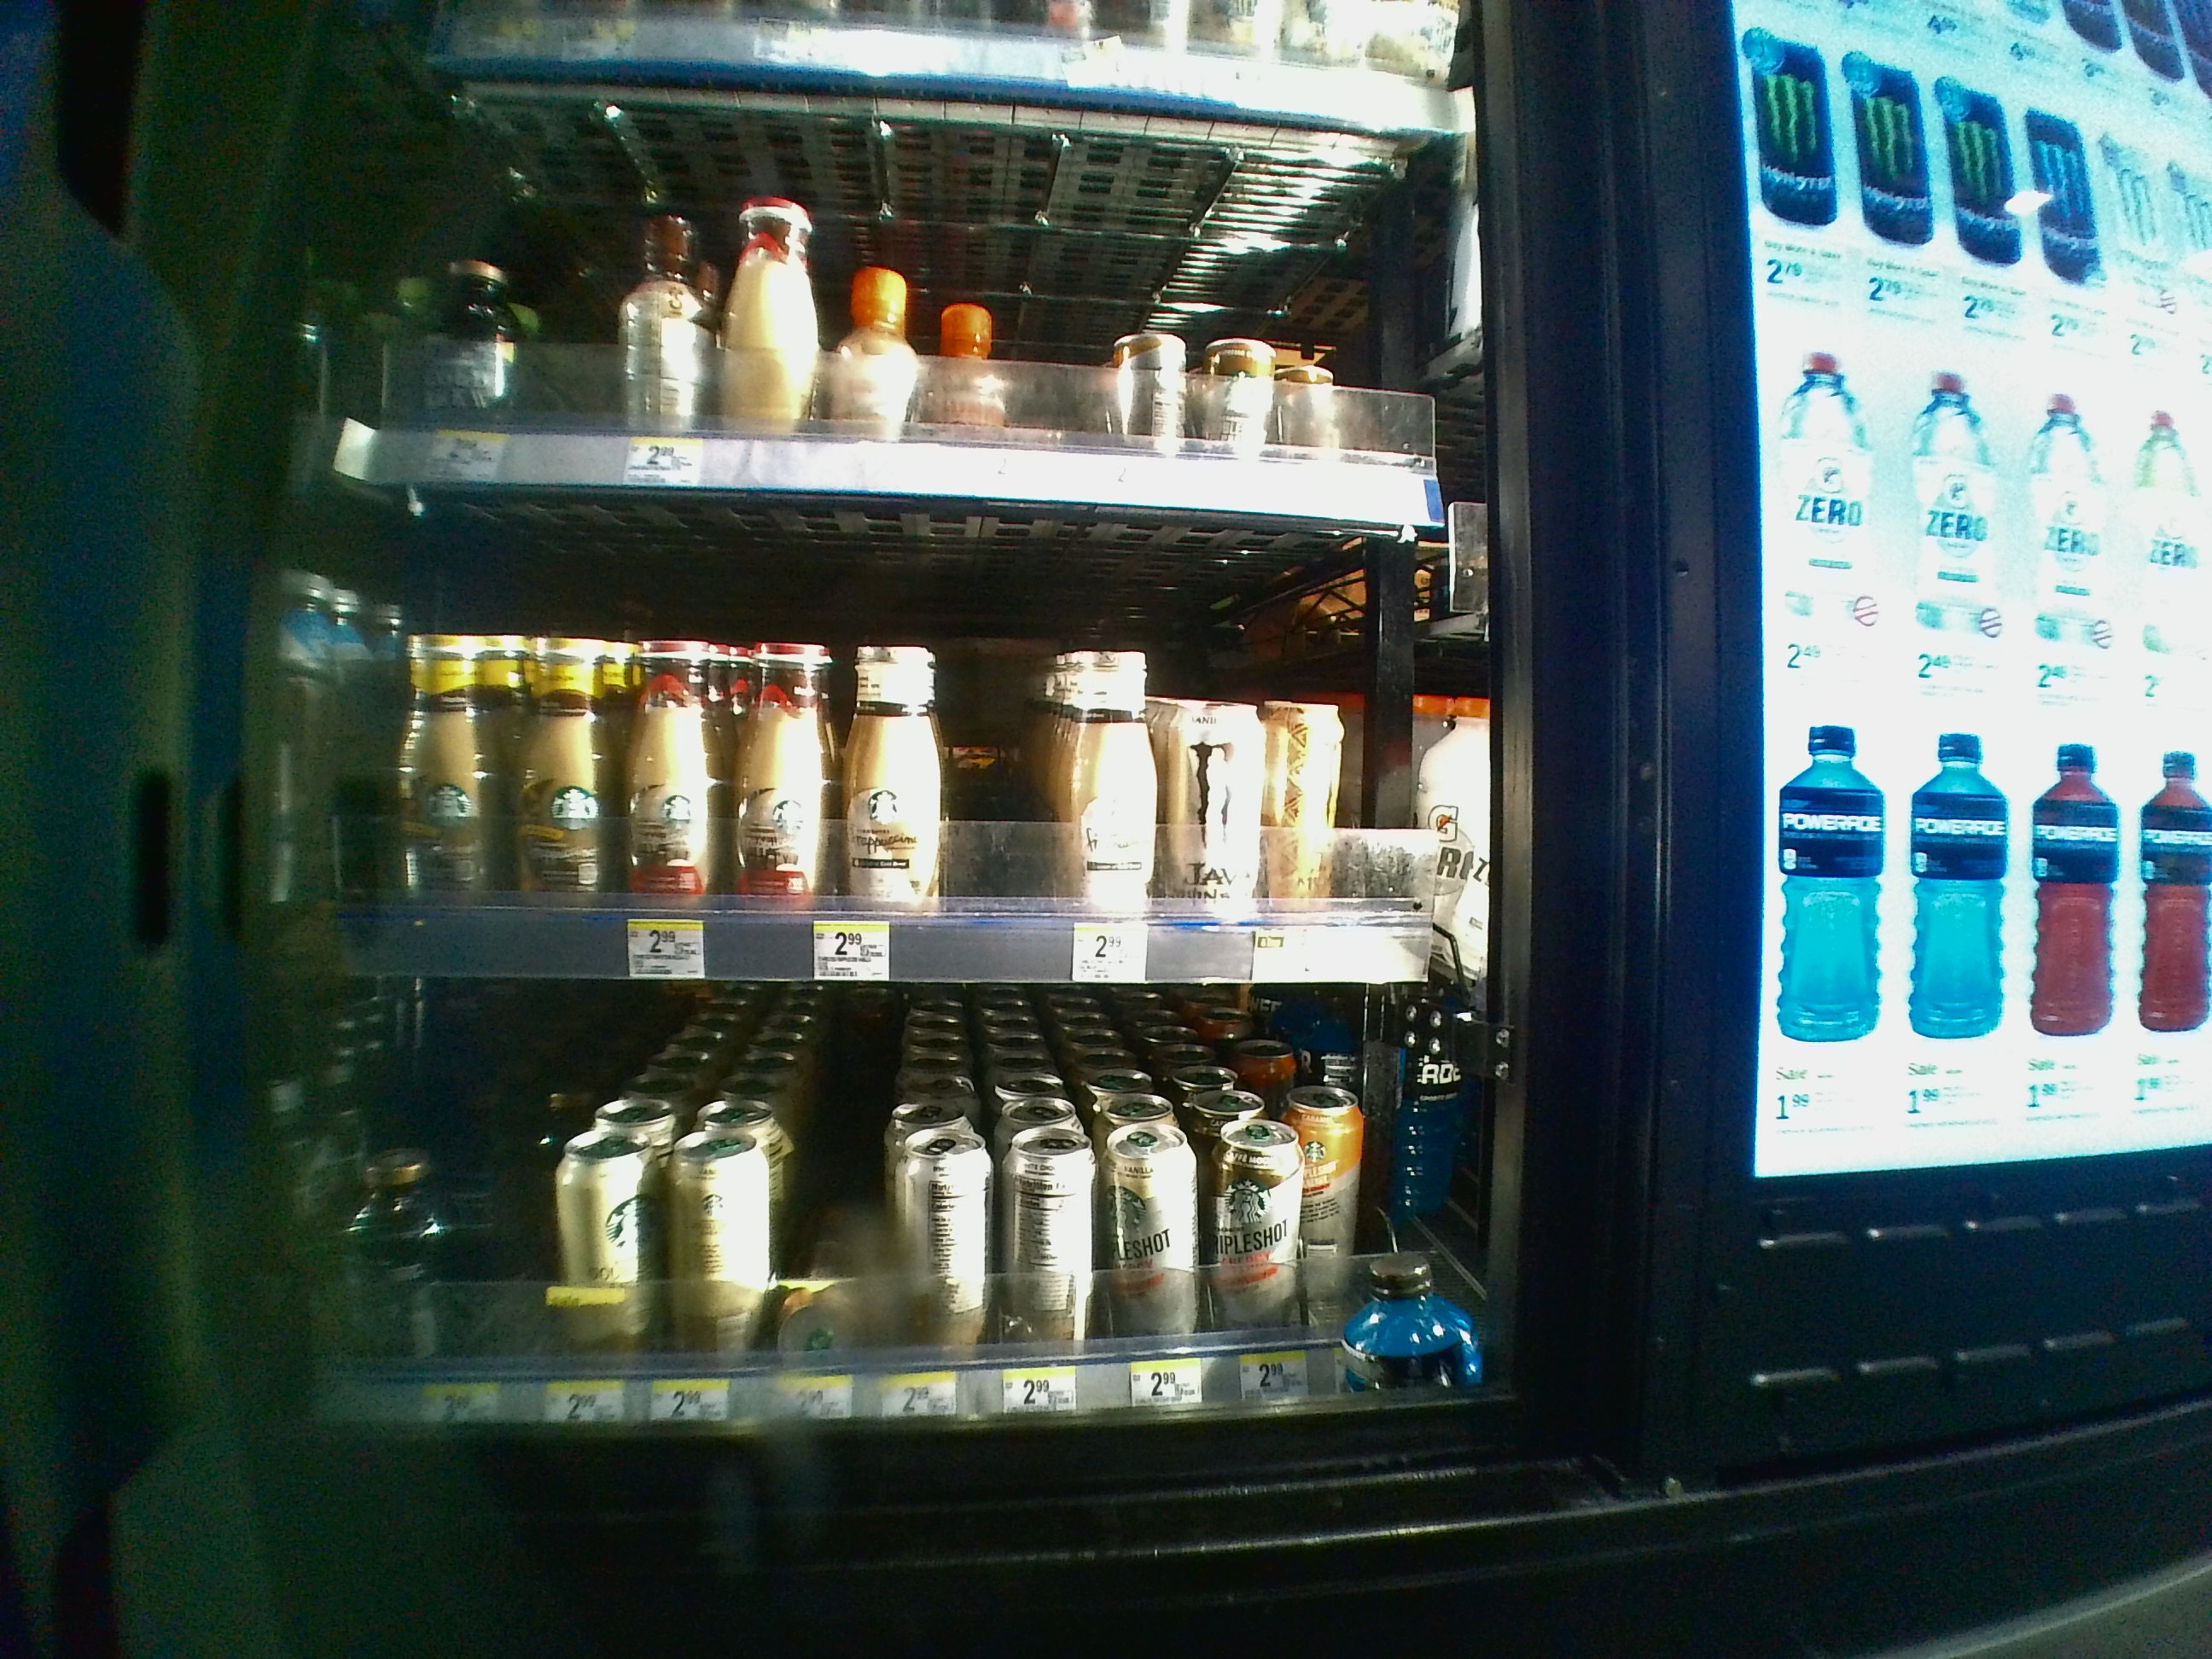shelf: (277, 490, 1498, 985), (263, 979, 1505, 1417)
